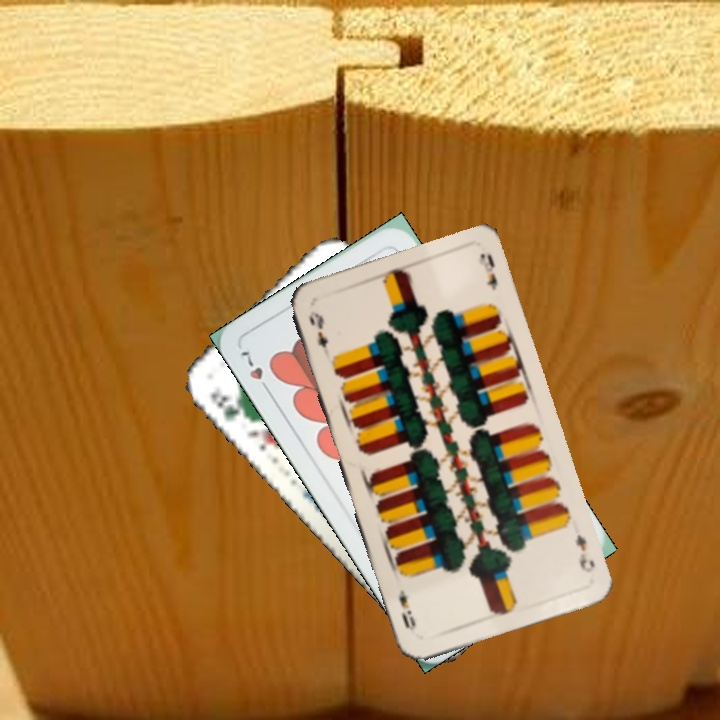E9: (571, 530, 598, 575), (305, 307, 331, 351)
GK: (206, 383, 251, 425)
H7: (236, 346, 274, 397)
